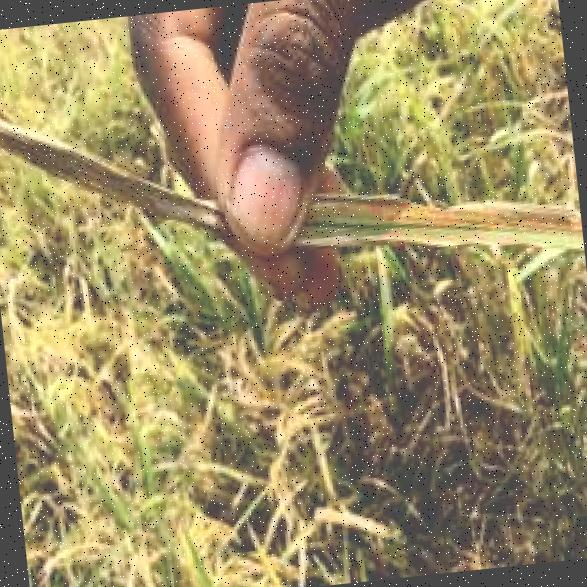Bacteria_Leaf_Blight: (0, 44, 582, 338)
